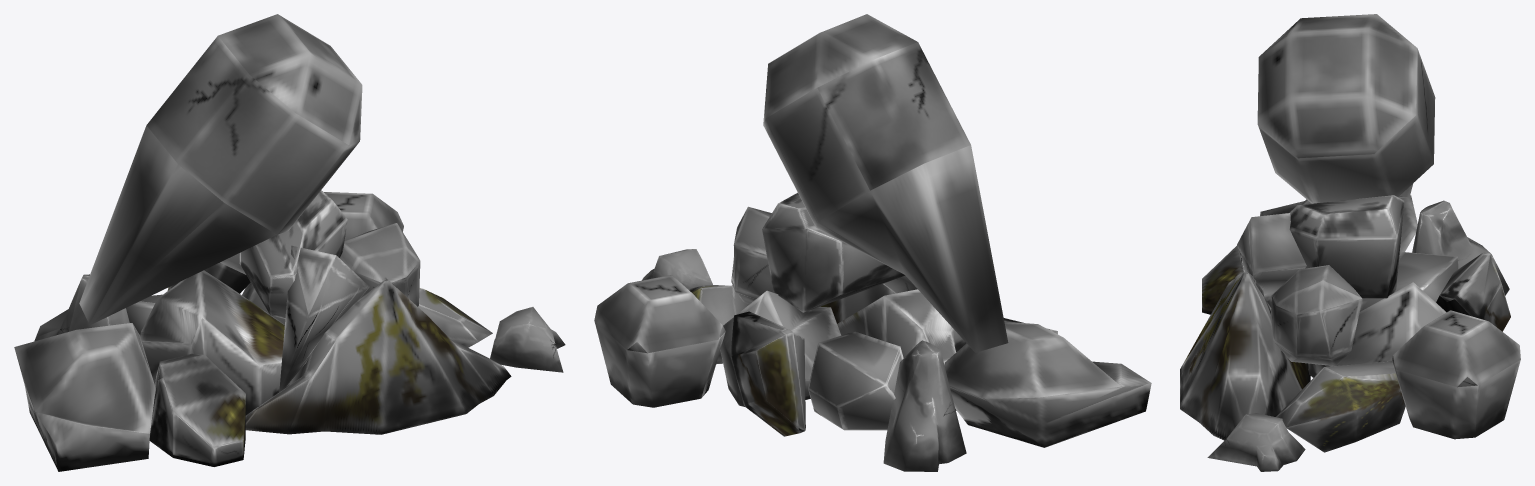
Rendered from SM_Obstacle_01.fbx.
The picture shows the model from 3 angles, left to right: view 1: azimuth 30°, elevation 25°; view 2: azimuth 150°, elevation 25°; view 3: azimuth 270°, elevation 25°; orthographic projection. The views are drawn at different scales.
Visible parts, largest first — view 1: Obtáculo de Rocas; view 2: Obtáculo de Rocas; view 3: Obtáculo de Rocas.
Part boxes in pixels (box(x1,y1,x2,y2)): Obtáculo de Rocas: box(14, 14, 565, 471); Obtáculo de Rocas: box(594, 14, 1151, 471); Obtáculo de Rocas: box(1180, 14, 1520, 471).
Size of the model in its own units: 14.04 by 9.41 by 8.47.
